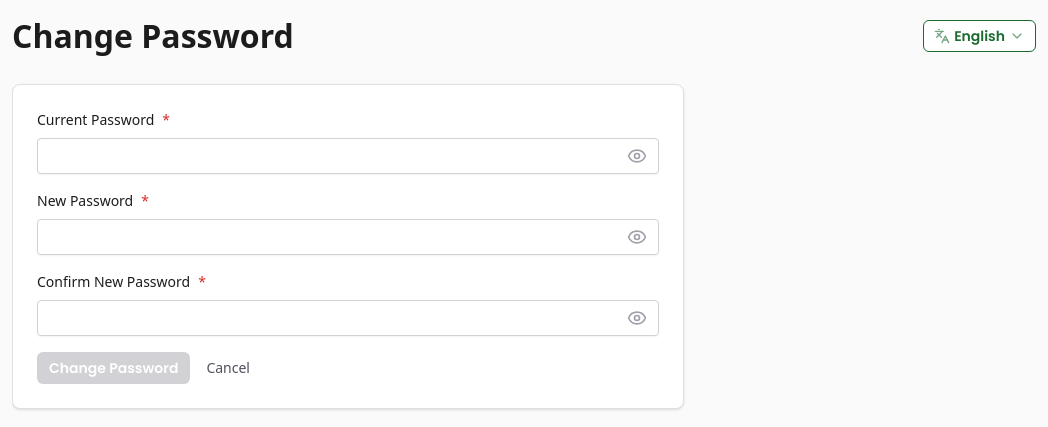
it: ProfileChangePasswordPage › keeps Save disabled until all three fields have a value
This screenshot has width=1048, height=427.
Check: the button "Change Password" is disabled, box [37,352,190,384]
Type "old-pass" into the password field below "Current Password" at (348, 156), box [37,138,659,174]
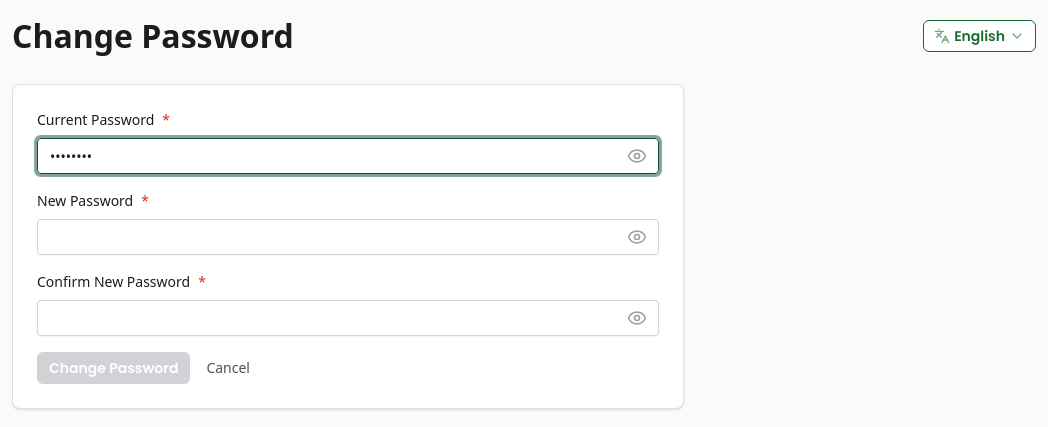
Check: the button "Change Password" is disabled, box [37,352,190,384]
Type "New-pass1" into the 2nd password field at (348, 237), box [37,219,659,255]
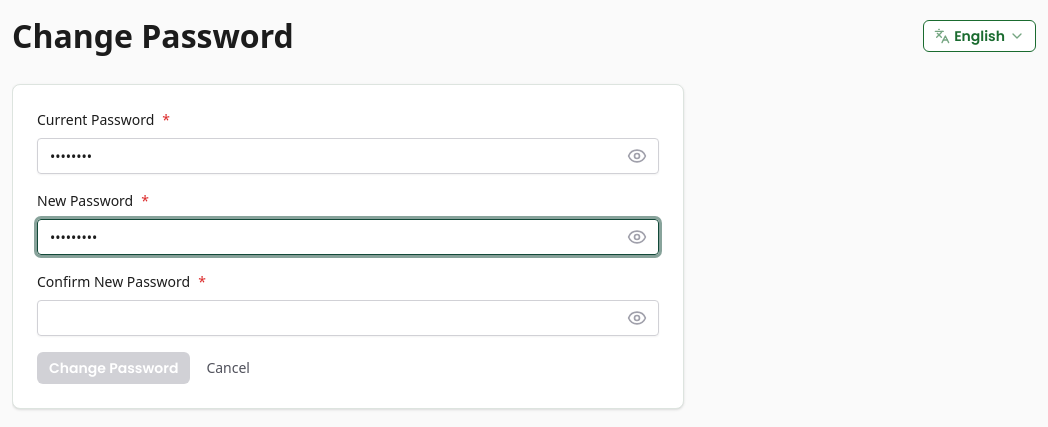
Check: the button "Change Password" is disabled, box [37,352,190,384]
Type "New-pass1" into the password field below "Confirm New Password" at (348, 318), box [37,300,659,336]
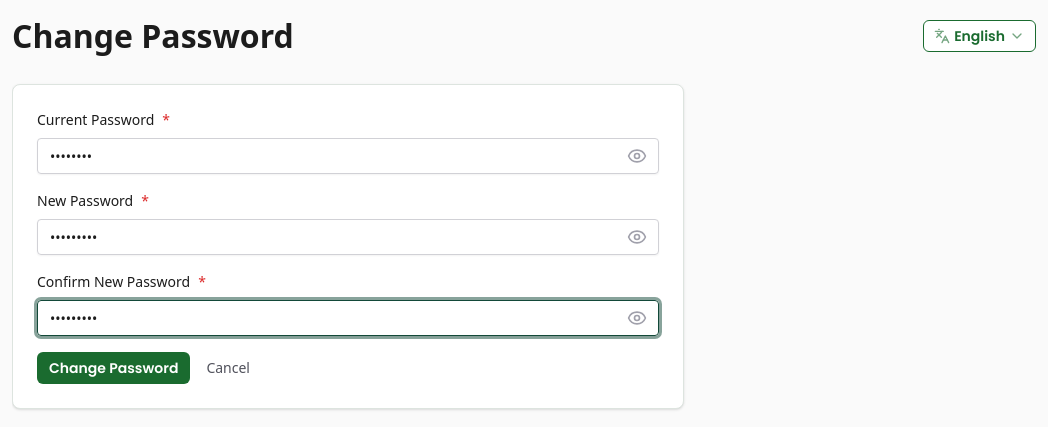
Check: the button "Change Password" is enabled, box [37,352,190,384]
